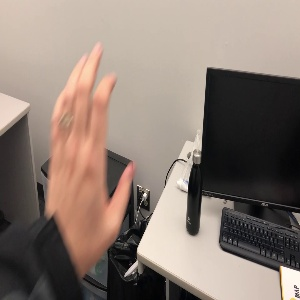hand: (48, 42, 134, 224)
